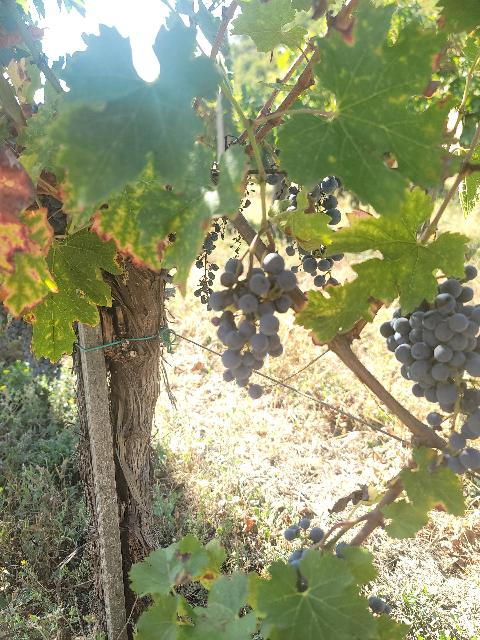grapes: (380, 279, 480, 472), (209, 252, 298, 388)
